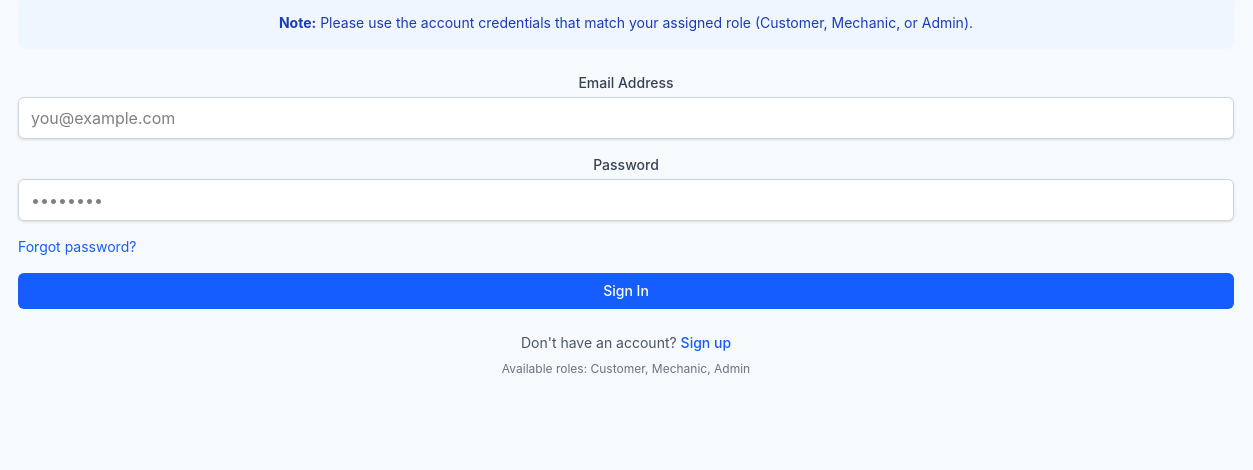
Test: Login Page › shows error message on failed login
In the field labelled "Email Address": {"x": 626, "y": 118} [18,97,1234,139], type "test@example.com"
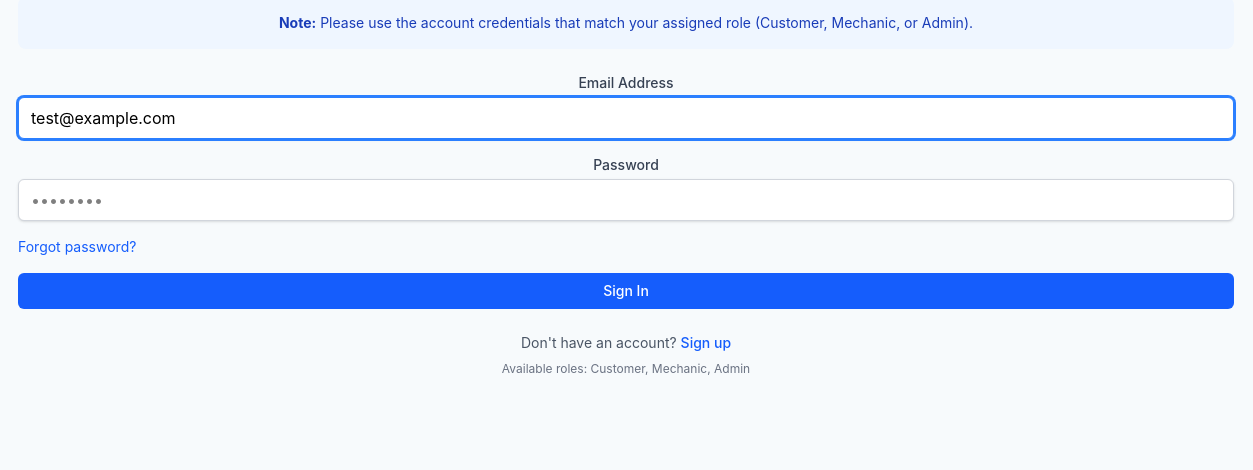
In the password field labelled "Password": {"x": 626, "y": 200} [18,179,1234,221], type "wrongpassword"
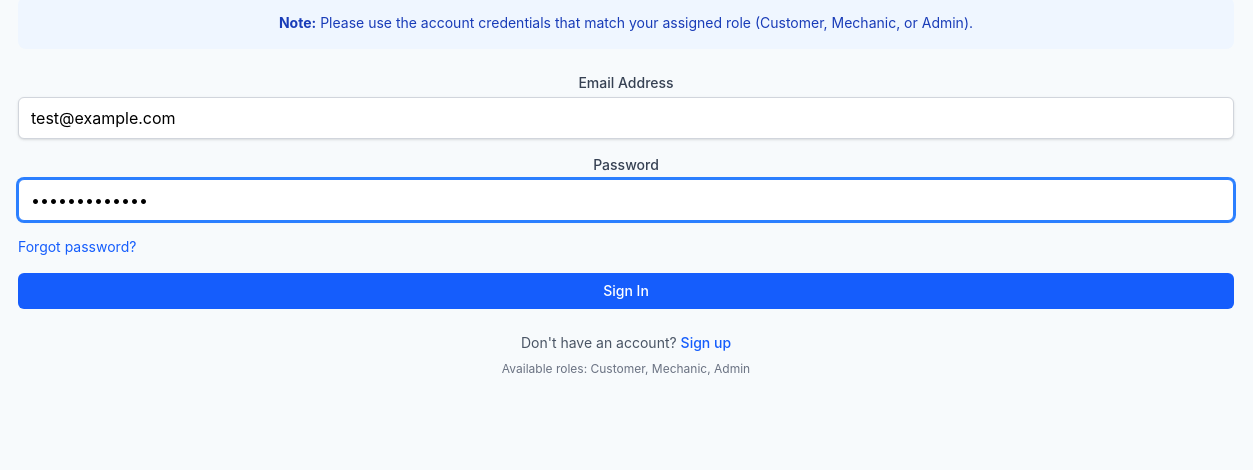
Click the button "Sign In": {"x": 626, "y": 291} [18,273,1234,309]
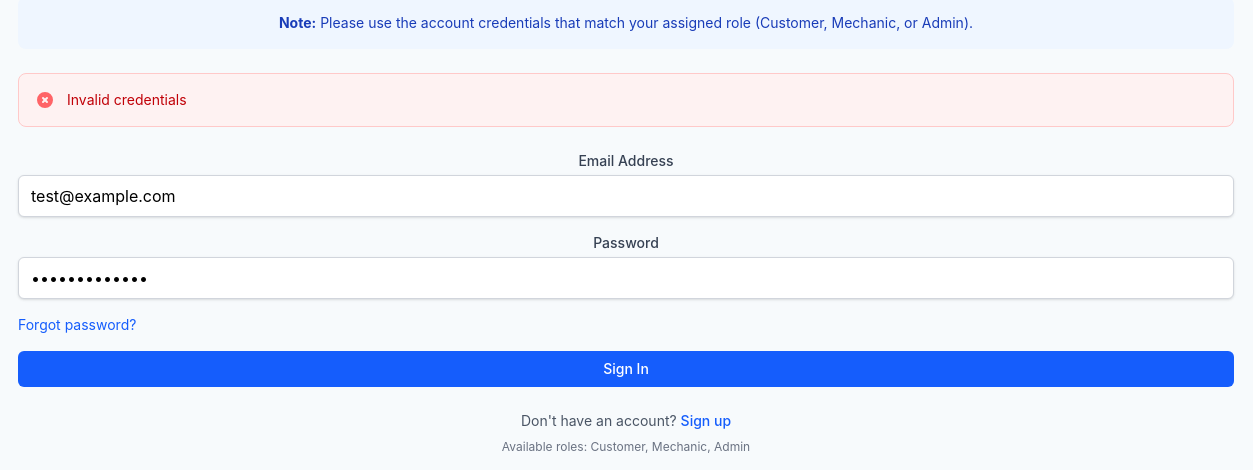
Expected: the text "Invalid credentials" is shown, [67,90,187,110]
